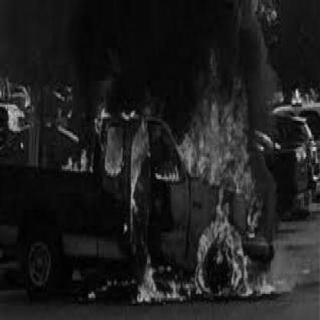Fire: (55, 68, 292, 302)
